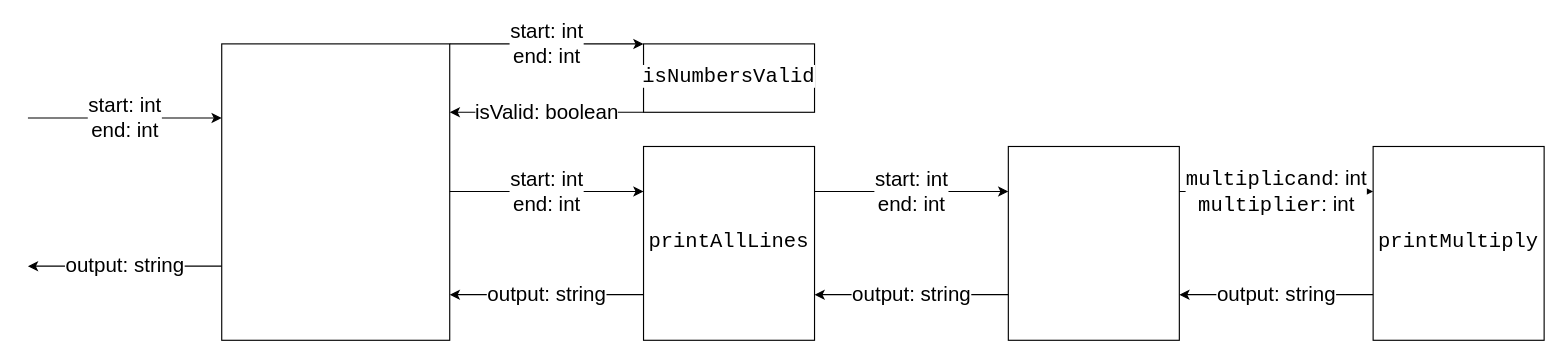
Some shapes in this 1564 by 360 pixel diagram are drawn without their labels. Each missing label, with the box of its shape:
createMultiplyTable: (221, 43, 450, 340)
printOneLine: (1007, 145, 1179, 340)
